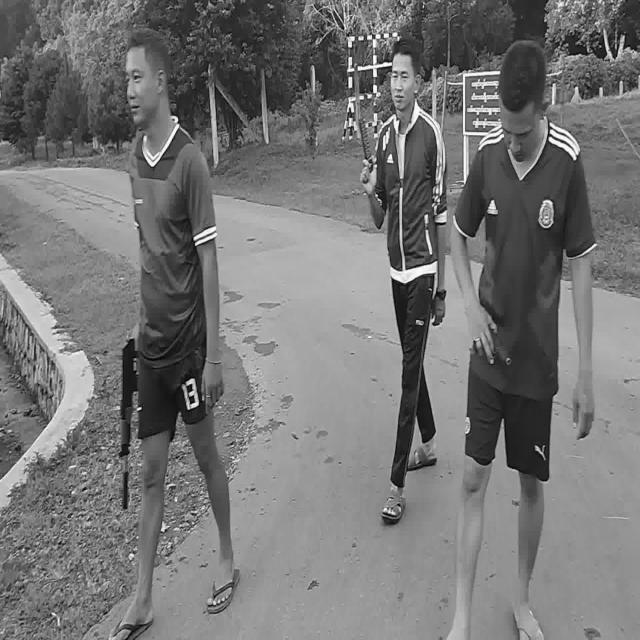gun: (122, 338, 139, 508), (492, 329, 510, 364)
